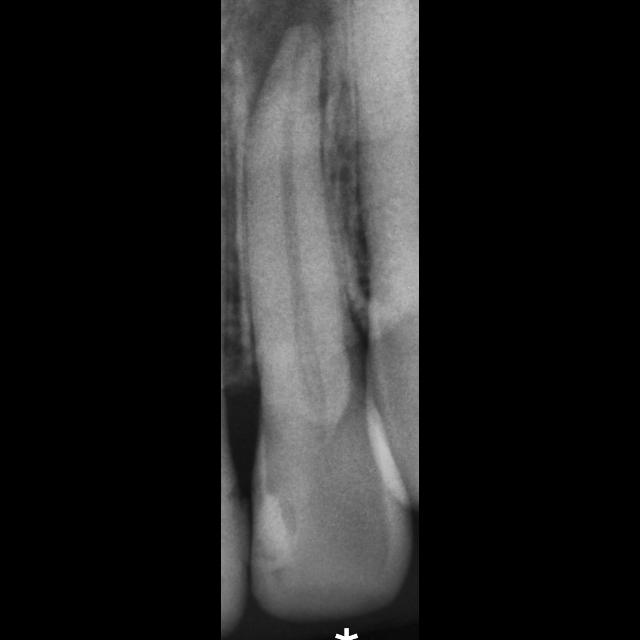tooth: (245, 24, 414, 624)
